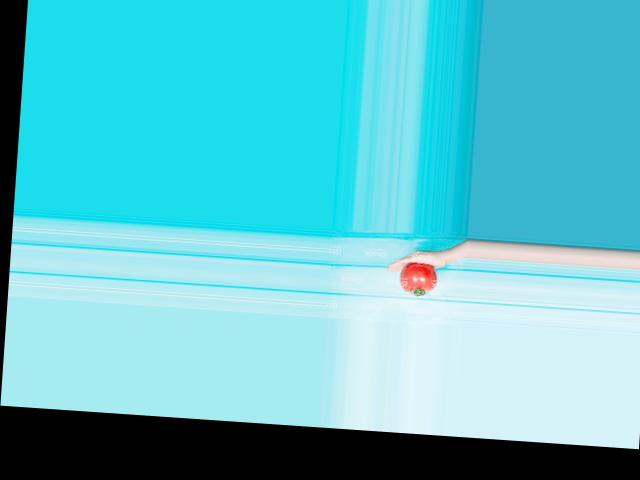tomato: (397, 261, 437, 296)
